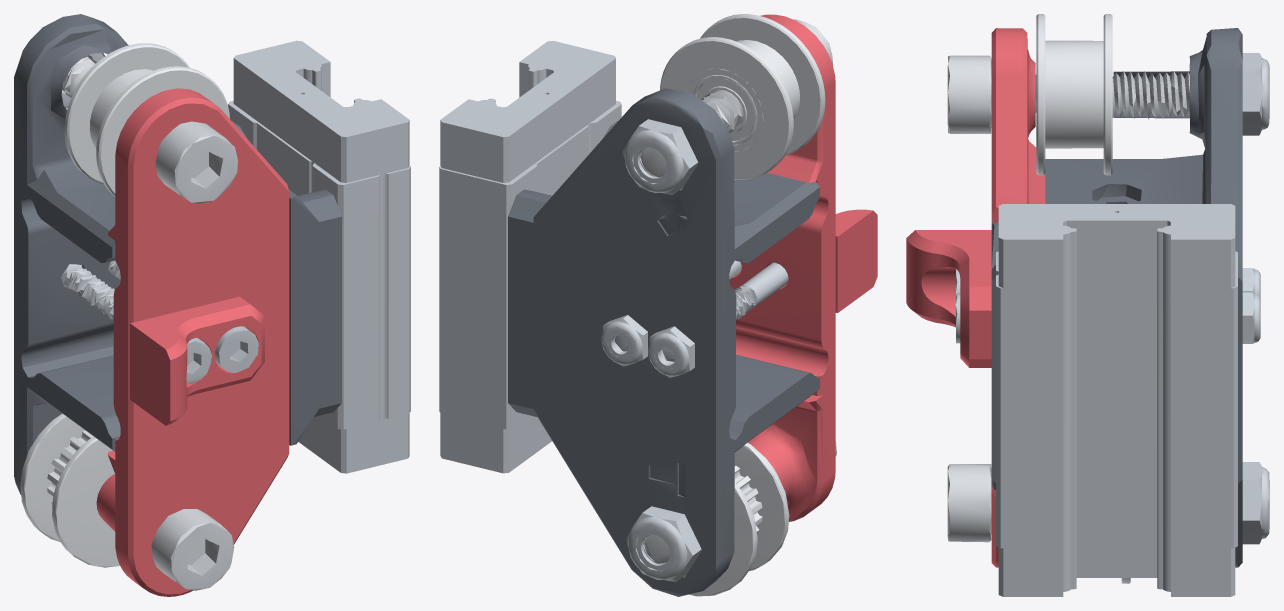
The picture shows the model from 3 angles, left to right: view 1: azimuth 30°, elevation 25°; view 2: azimuth 150°, elevation 25°; view 3: azimuth 270°, elevation 25°; orthographic projection. The views are drawn at different scales.
Parts seen in each view (by area): view 1: gantry_top__1___1_, gantry_bottom__1___1_, y_sliding_block_right, pulley__2_, x_end_stopper__1_, m5__30mm_titanium_socket, m5__30mm_titanium_socket_24, component6, component5, m3_30mm_black-oxide_allo, m3_30mm_black-oxide_allo_23, component1; view 2: gantry_bottom__1___1_, y_sliding_block_right, gantry_top__1___1_, component6, pulley__2_, component5, x_end_stopper__1_, m5_lock_n_nut__1__26, m5_lock_n_nut__1__22, component1, m5__30mm_titanium_socket, m3_30mm_black-oxide_allo (+4 smaller); view 3: y_sliding_block_right, gantry_bottom__1___1_, x_end_stopper__1_, gantry_top__1___1_, m5__30mm_titanium_socket, component1, m5__30mm_titanium_socket_24, m5_lock_n_nut__1__22, m5_lock_n_nut__1__26, component5, component6, m3_nut__1___2_.
Part boxes in pixels (x1,y1,x2,y2): gantry_top__1___1_: (96, 88, 289, 596); gantry_bottom__1___1_: (14, 14, 341, 494); y_sliding_block_right: (228, 40, 410, 473); pulley__2_: (20, 413, 119, 567); x_end_stopper__1_: (130, 296, 264, 425); m5__30mm_titanium_socket: (62, 56, 237, 203); m5__30mm_titanium_socket_24: (151, 509, 234, 590); component6: (64, 43, 189, 184); component5: (96, 66, 229, 196); m3_30mm_black-oxide_allo: (61, 264, 211, 383); m3_30mm_black-oxide_allo_23: (108, 260, 258, 372); component1: (89, 69, 152, 148); gantry_bottom__1___1_: (508, 88, 819, 596); y_sliding_block_right: (439, 41, 621, 473); gantry_top__1___1_: (729, 14, 835, 521); component6: (660, 37, 793, 179); pulley__2_: (689, 442, 789, 596); component5: (700, 14, 825, 155); x_end_stopper__1_: (835, 209, 877, 312); m5_lock_n_nut__1__26: (625, 506, 701, 581); m5_lock_n_nut__1__22: (622, 119, 698, 194); component1: (687, 40, 799, 151); m5__30mm_titanium_socket: (640, 19, 832, 176); m3_30mm_black-oxide_allo: (662, 262, 788, 361); y_sliding_block_right: (996, 204, 1237, 596); gantry_bottom__1___1_: (991, 28, 1242, 567); x_end_stopper__1_: (906, 230, 991, 367); gantry_top__1___1_: (991, 28, 1045, 567); m5__30mm_titanium_socket: (947, 55, 1189, 133); component1: (1045, 40, 1103, 148); m5__30mm_titanium_socket_24: (947, 464, 991, 542); m5_lock_n_nut__1__22: (1242, 53, 1269, 135); m5_lock_n_nut__1__26: (1242, 462, 1269, 544); component5: (1036, 14, 1045, 175); component6: (1103, 14, 1112, 175); m3_nut__1___2_: (1242, 292, 1260, 343).
Size of the model in its own units: 0.0408 by 0.0685 by 0.0405.
